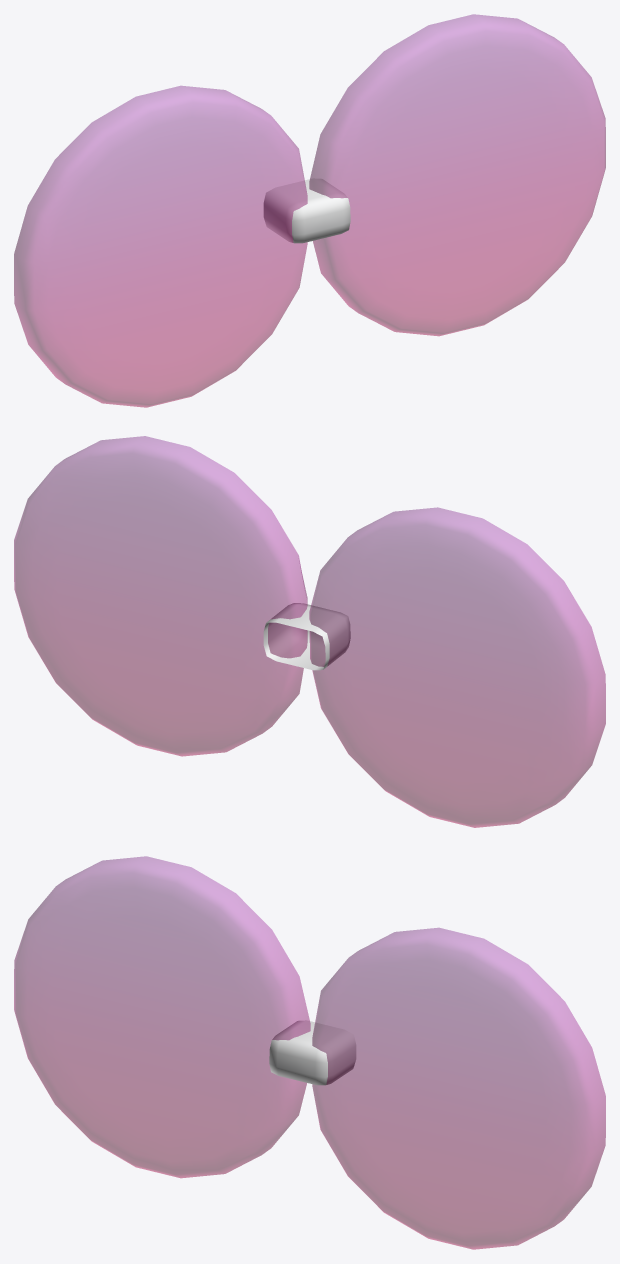
File: Glasses_06.glb
3 renders of one model, top to bottom at view 1: azimuth 30°, elevation 25°; view 2: azimuth 150°, elevation 25°; view 3: azimuth 330°, elevation 25°, orthographic.
Parts seen in each view (by area): view 1: Glasses_06; view 2: Glasses_06; view 3: Glasses_06.
Part boxes in pixels (left/top/right/bottom): Glasses_06: left=14, top=14, right=605, bottom=407; Glasses_06: left=14, top=436, right=605, bottom=827; Glasses_06: left=14, top=856, right=605, bottom=1249.
Bounding box in the file's own units: 0.4177 × 0.208 × 0.0369.
2 materials, 2 textured.
